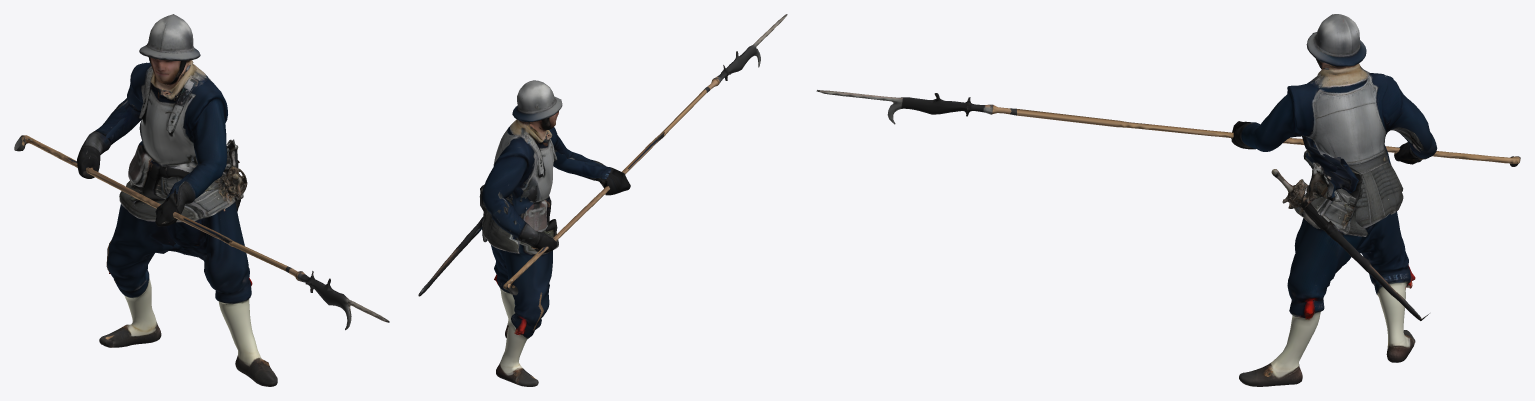
The model's file is PIKEMAN_Swe_Def.glb.
3 renders of one model, left to right at view 1: azimuth 30°, elevation 25°; view 2: azimuth 150°, elevation 25°; view 3: azimuth 270°, elevation 25°, orthographic. The views are drawn at different scales.
Parts seen in each view (by area): view 1: Mesh0.004; view 2: Mesh0.004; view 3: Mesh0.004.
Boxes of the visible parts, <box> form: Mesh0.004: <box>14,14,389,386</box>; Mesh0.004: <box>418,14,787,386</box>; Mesh0.004: <box>816,14,1520,386</box>.
Size of the model in its own units: 0.7406 by 1.45 by 2.7.
1 material, 1 textured.
